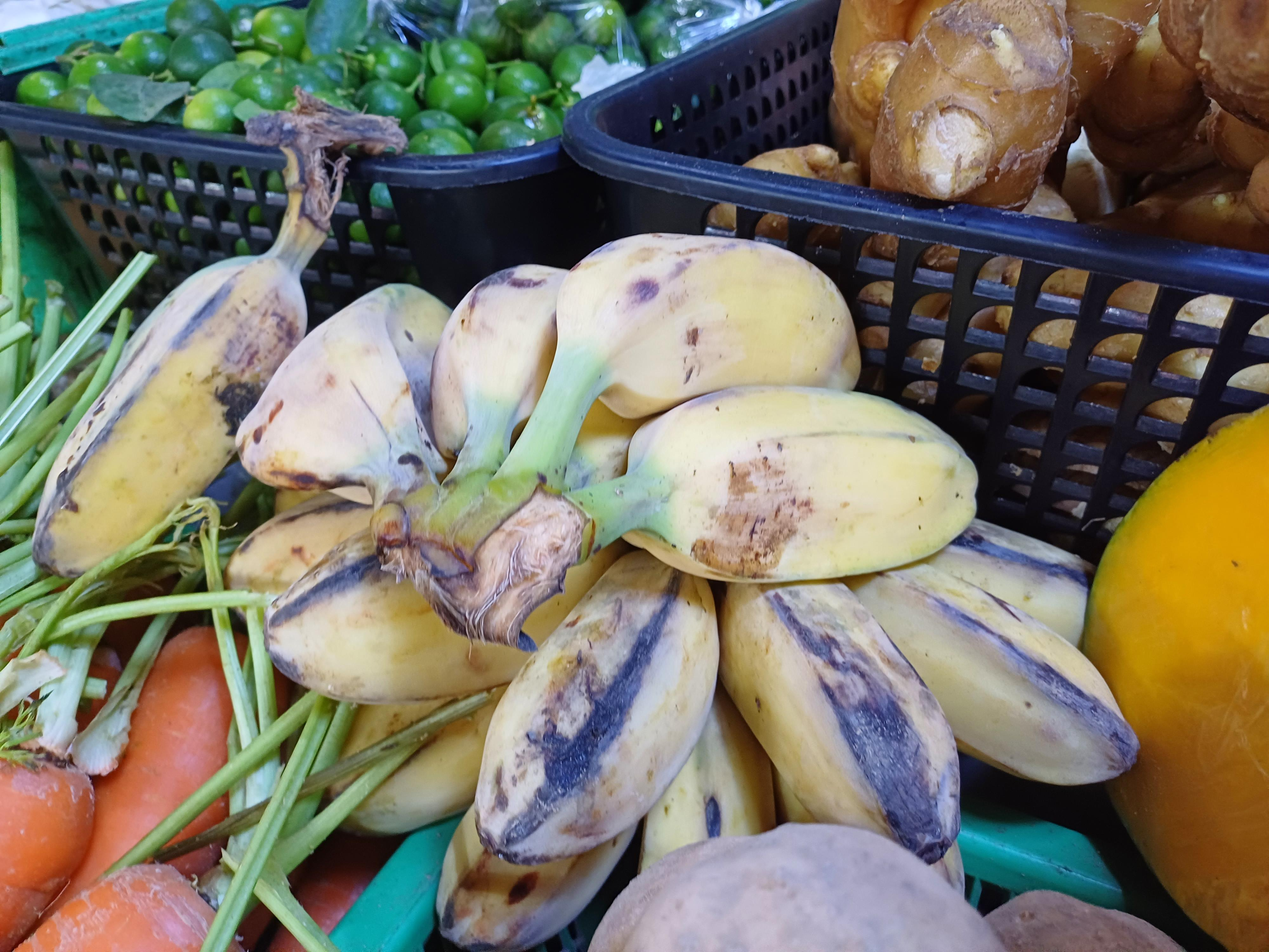ripe: (222, 493, 1142, 952), (235, 228, 978, 581)
